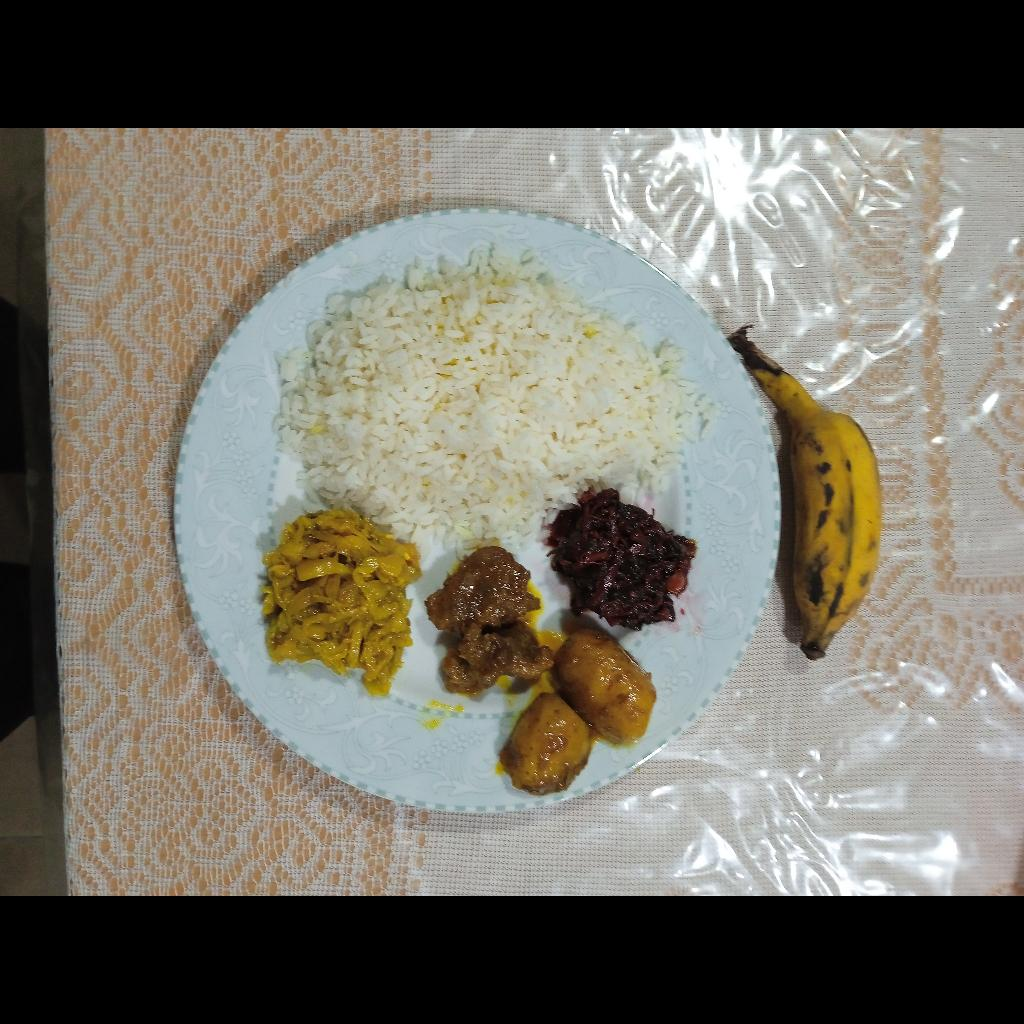banana: (760, 362, 878, 656)
beef: (431, 550, 548, 693)
cauliflower: (267, 506, 416, 686)
potato: (502, 621, 656, 788)
rice: (270, 270, 705, 529)
shak: (549, 495, 697, 628)
